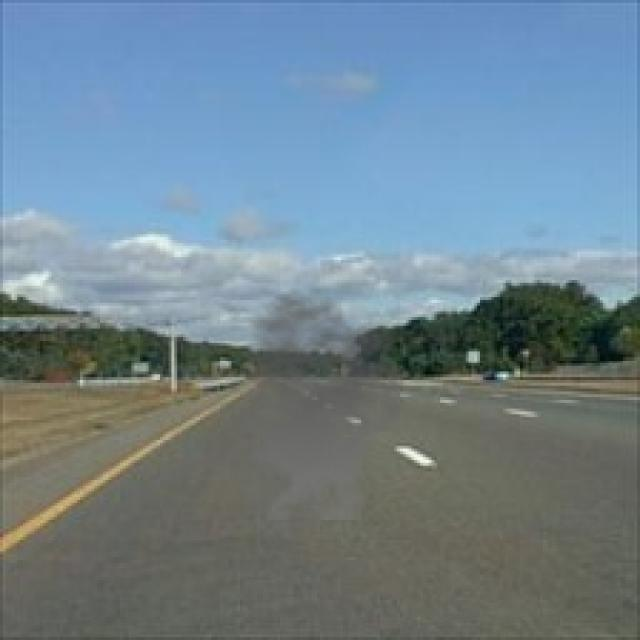Smoke: (212, 289, 414, 520)
